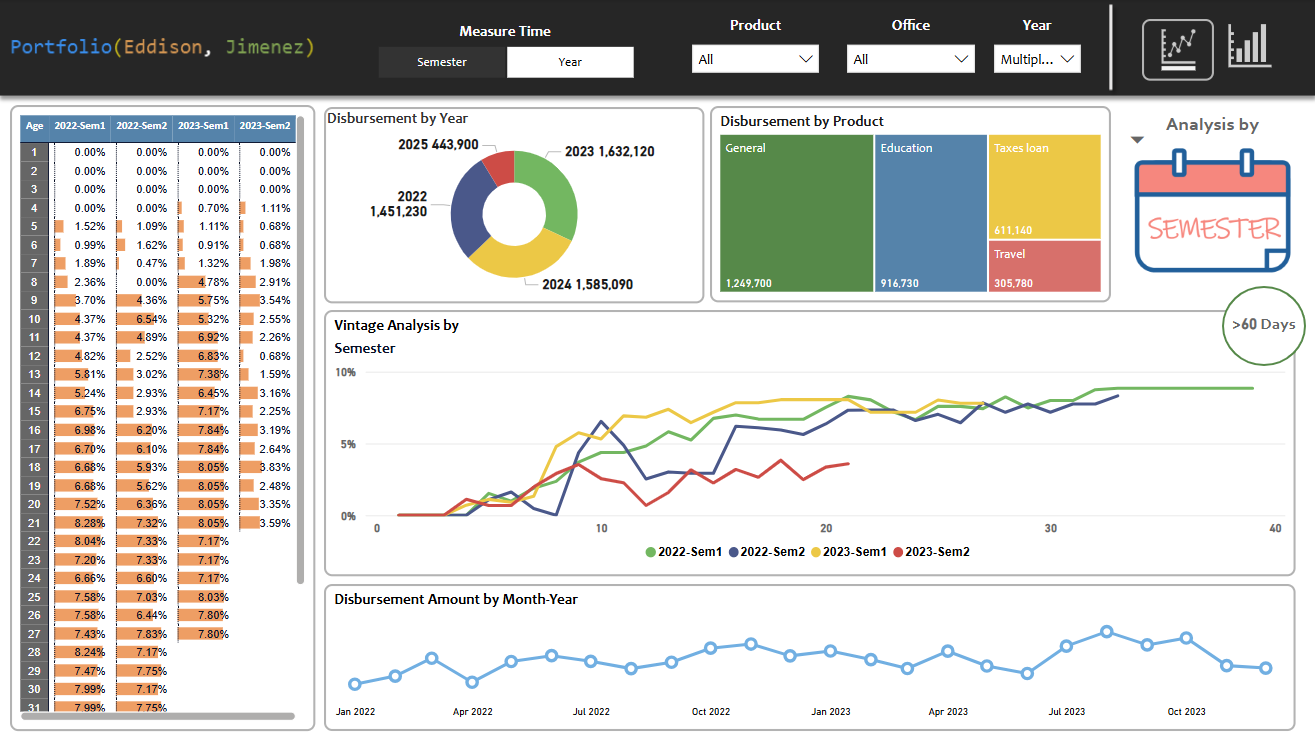

What the dashboard file says about the page in this screenshot:
{"tool":"powerbi","page":{"name":"Vintage Analysis","canvas":[1280,720],"ordinal":0},"visuals":[{"type":"pivotTable","fields":{"Values":["AAMedidas.Ind"],"Rows":["ageDynamic.age"],"Columns":["ageDynamic.optionAge"]},"box":[9.7,103.1,296.7,608.9],"z":0},{"type":"lineChart","title":"Vintage Analysis by","fields":{"Y":["AAMedidas.Ind"],"Category":["ageDynamic.age"],"Series":["ageDynamic.optionAge"]},"box":[315.1,302.5,945.4,258.7],"z":1000},{"type":"slicer","title":"Product","fields":{"Values":["products.product_name"]},"box":[663.7,16.8,143.2,67.2],"z":2000},{"type":"slicer","title":"Measure Time","fields":{"Values":["optionTime.option"]},"box":[342.4,16.5,297.6,67.1],"z":3000},{"type":"slicer","title":"Year","fields":{"Values":["years.dis_year"]},"box":[957.3,16.4,103.6,67.3],"z":4000},{"type":"donutChart","title":"Disbursement by Year","fields":{"Category":["years.dis_year"],"Y":["disbursements.disbursement_amount","select"]},"box":[314.8,104.7,370,190.6],"z":5000},{"type":"treemap","title":"Disbursement by Product","fields":{"Group":["products.product_name"],"Values":["disbursements.disbursement_amount"]},"box":[691,104.4,390,190.6],"z":6000},{"type":"image","box":[1111.1,19.8,70.1,60.2],"z":7000},{"type":"image","box":[1181.2,19.8,70,52.3],"z":8000},{"type":"slicer","title":"Office","fields":{"Values":["offices.agency_name"]},"box":[813.6,16.4,143.6,67.3],"z":9000},{"type":"tableEx","fields":{"Values":["optionTime.icon"]},"box":[1088.5,104.4,182.9,198.4],"z":10000},{"type":"lineChart","fields":{"Category":["disbursements.cut_month_date"],"Y":["disbursements.disbursement_amount"]},"box":[315.1,569,945.4,143],"z":11000},{"type":"shape","box":[1188.6,279.1,81.7,77.8],"z":13000},{"type":"textbox","box":[1178.8,300.5,101.2,34],"z":13500}]}

Visuals, with their boxes in screenshot pixels (x1, y1, x2, y2), scaled from the page's 1280x720 canvas onto the 1315x737 screenshot:
pivotTable - AAMedidas.Ind x ageDynamic.age: <bbox>10, 106, 315, 729</bbox>
"Vintage Analysis by" lineChart: <bbox>324, 310, 1295, 574</bbox>
"Product" slicer: <bbox>682, 17, 829, 86</bbox>
"Measure Time" slicer: <bbox>352, 17, 658, 86</bbox>
"Year" slicer: <bbox>983, 17, 1090, 86</bbox>
"Disbursement by Year" donutChart: <bbox>323, 107, 704, 302</bbox>
"Disbursement by Product" treemap: <bbox>710, 107, 1111, 302</bbox>
image: <bbox>1141, 20, 1213, 82</bbox>
image: <bbox>1213, 20, 1285, 74</bbox>
"Office" slicer: <bbox>836, 17, 983, 86</bbox>
tableEx - optionTime.icon: <bbox>1118, 107, 1306, 310</bbox>
lineChart - disbursements.cut_month_date x disbursements.disbursement_amount: <bbox>324, 582, 1295, 729</bbox>
shape: <bbox>1221, 286, 1305, 365</bbox>
textbox: <bbox>1211, 308, 1314, 342</bbox>
